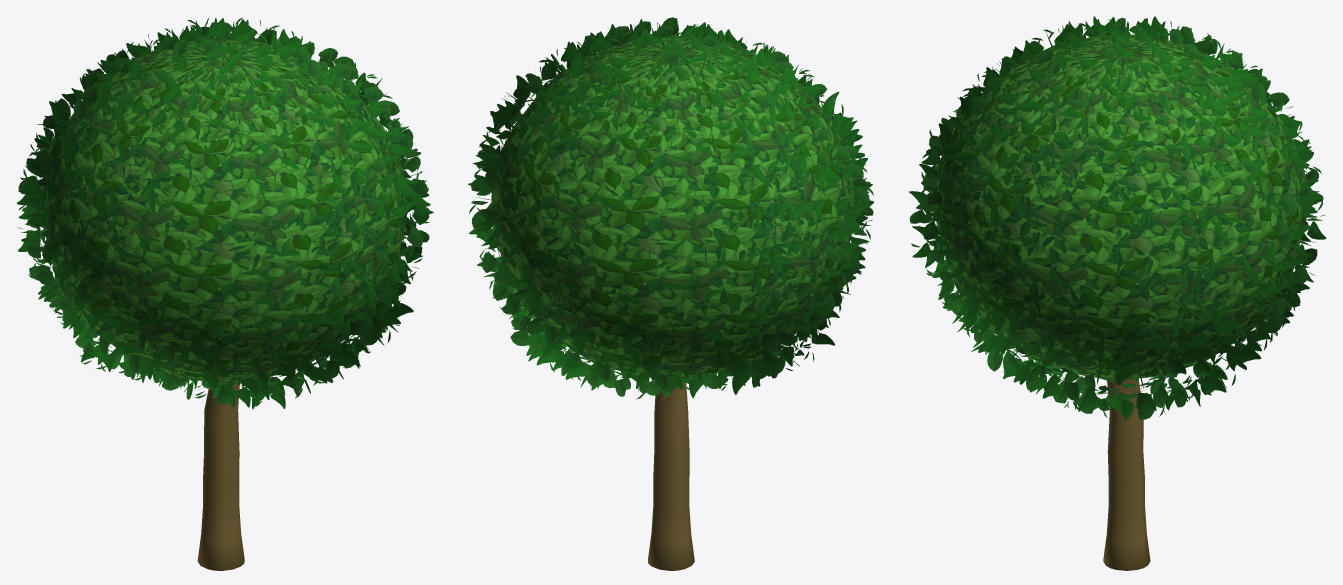
Rendered from apple_tree1_LP.fbx.
The picture shows the model from 3 angles, left to right: view 1: azimuth 30°, elevation 25°; view 2: azimuth 150°, elevation 25°; view 3: azimuth 270°, elevation 25°; orthographic projection.
Parts seen in each view (by area): view 1: pSphere1, leaves1, trunk; view 2: pSphere1, leaves1, trunk; view 3: pSphere1, leaves1, trunk.
Boxes of the visible parts, left/top/right/bottom form: pSphere1: left=40, top=38, right=406, bottom=382; leaves1: left=16, top=18, right=433, bottom=409; trunk: left=197, top=382, right=244, bottom=570; pSphere1: left=491, top=36, right=856, bottom=378; leaves1: left=468, top=17, right=873, bottom=399; trunk: left=648, top=382, right=694, bottom=570; pSphere1: left=935, top=34, right=1306, bottom=379; leaves1: left=909, top=16, right=1326, bottom=420; trunk: left=1103, top=378, right=1150, bottom=570.
Bounding box in the file's own units: 2.39 × 3.24 × 2.37.
